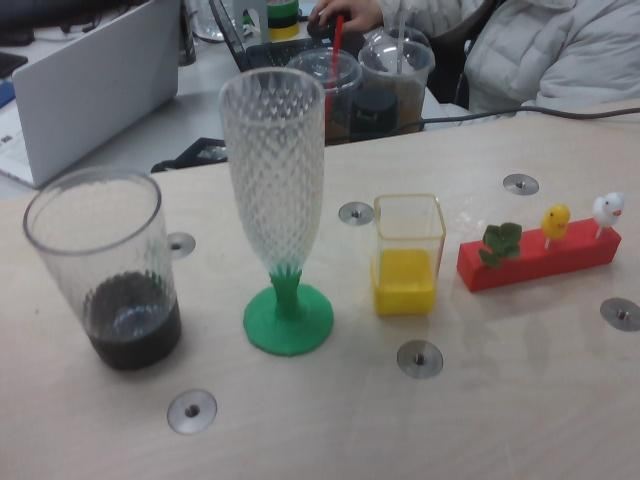black_cup: (89, 271, 183, 370)
green_cup: (244, 269, 334, 356)
leaf: (478, 222, 523, 270)
w_duck: (595, 193, 627, 229)
y_duck: (541, 202, 569, 241)
yellow_cup: (372, 249, 439, 316)
